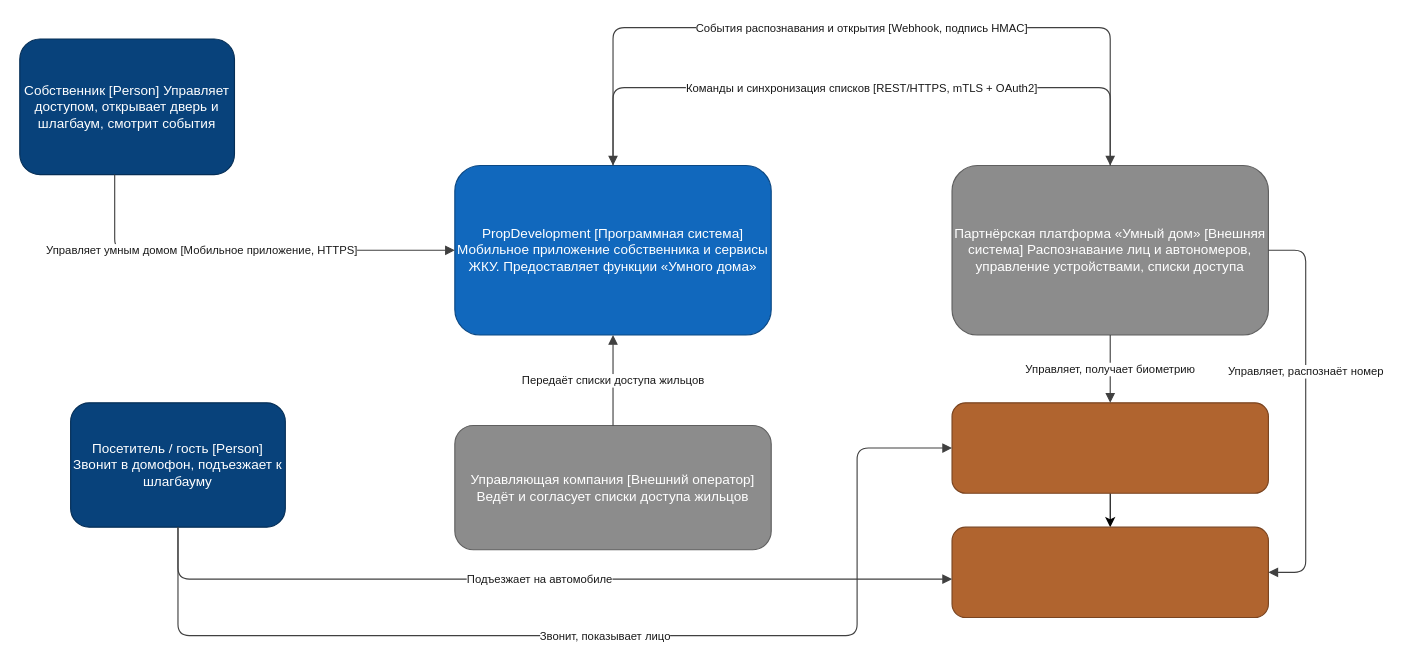
The diagram is 1403 pixels wide and 664 high, and some of its shapes have lost their labels. The shapes that lost their labels are listed below. From the top down, each one's centre as x and y in pixels, then its label:
At pixel 1109 447: "Интеллектуальный домофон [Устройство] Видеозвонок, биометрия по лицу".
At pixel 1109 572: "Интеллектуальный шлагбаум [Устройство] Распознавание автомобильных номеров".
